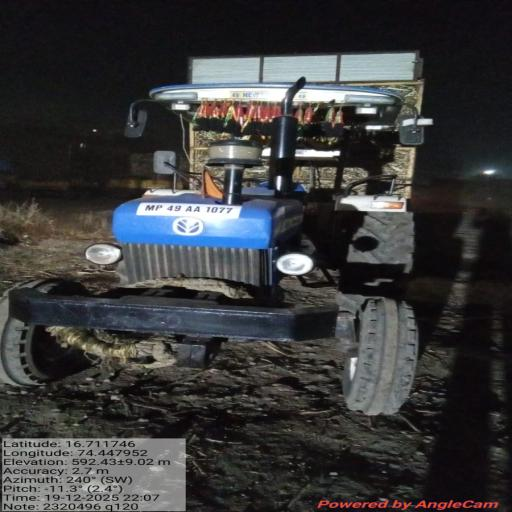number_plate: (126, 193, 256, 222)
